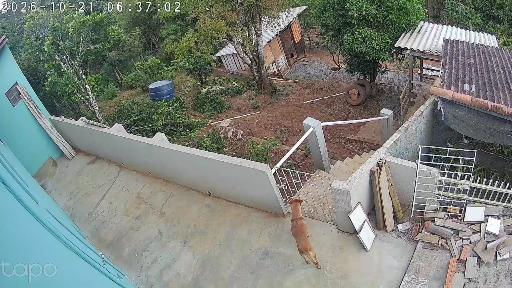cachorro: (288, 198, 324, 272)
